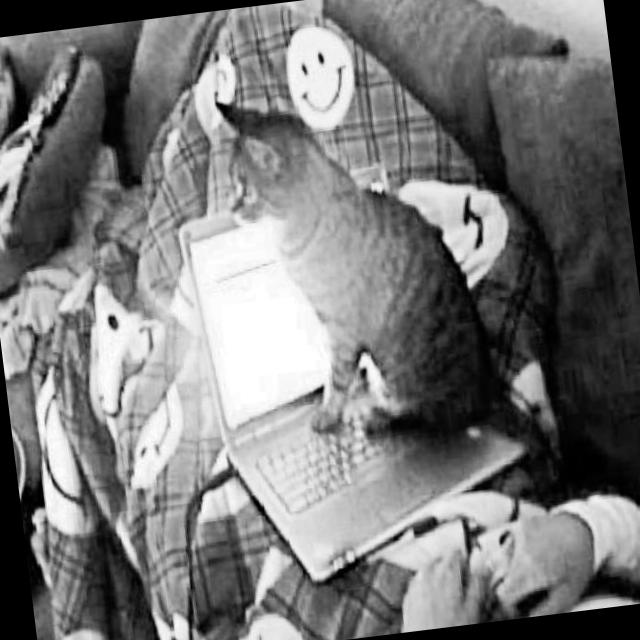Cat: (206, 50, 564, 528)
